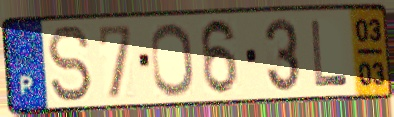3: (263, 16, 302, 94)
6: (198, 16, 244, 100)
7: (96, 22, 135, 101)
L: (308, 18, 350, 89)
O: (148, 21, 197, 99)
S: (44, 23, 94, 105)
